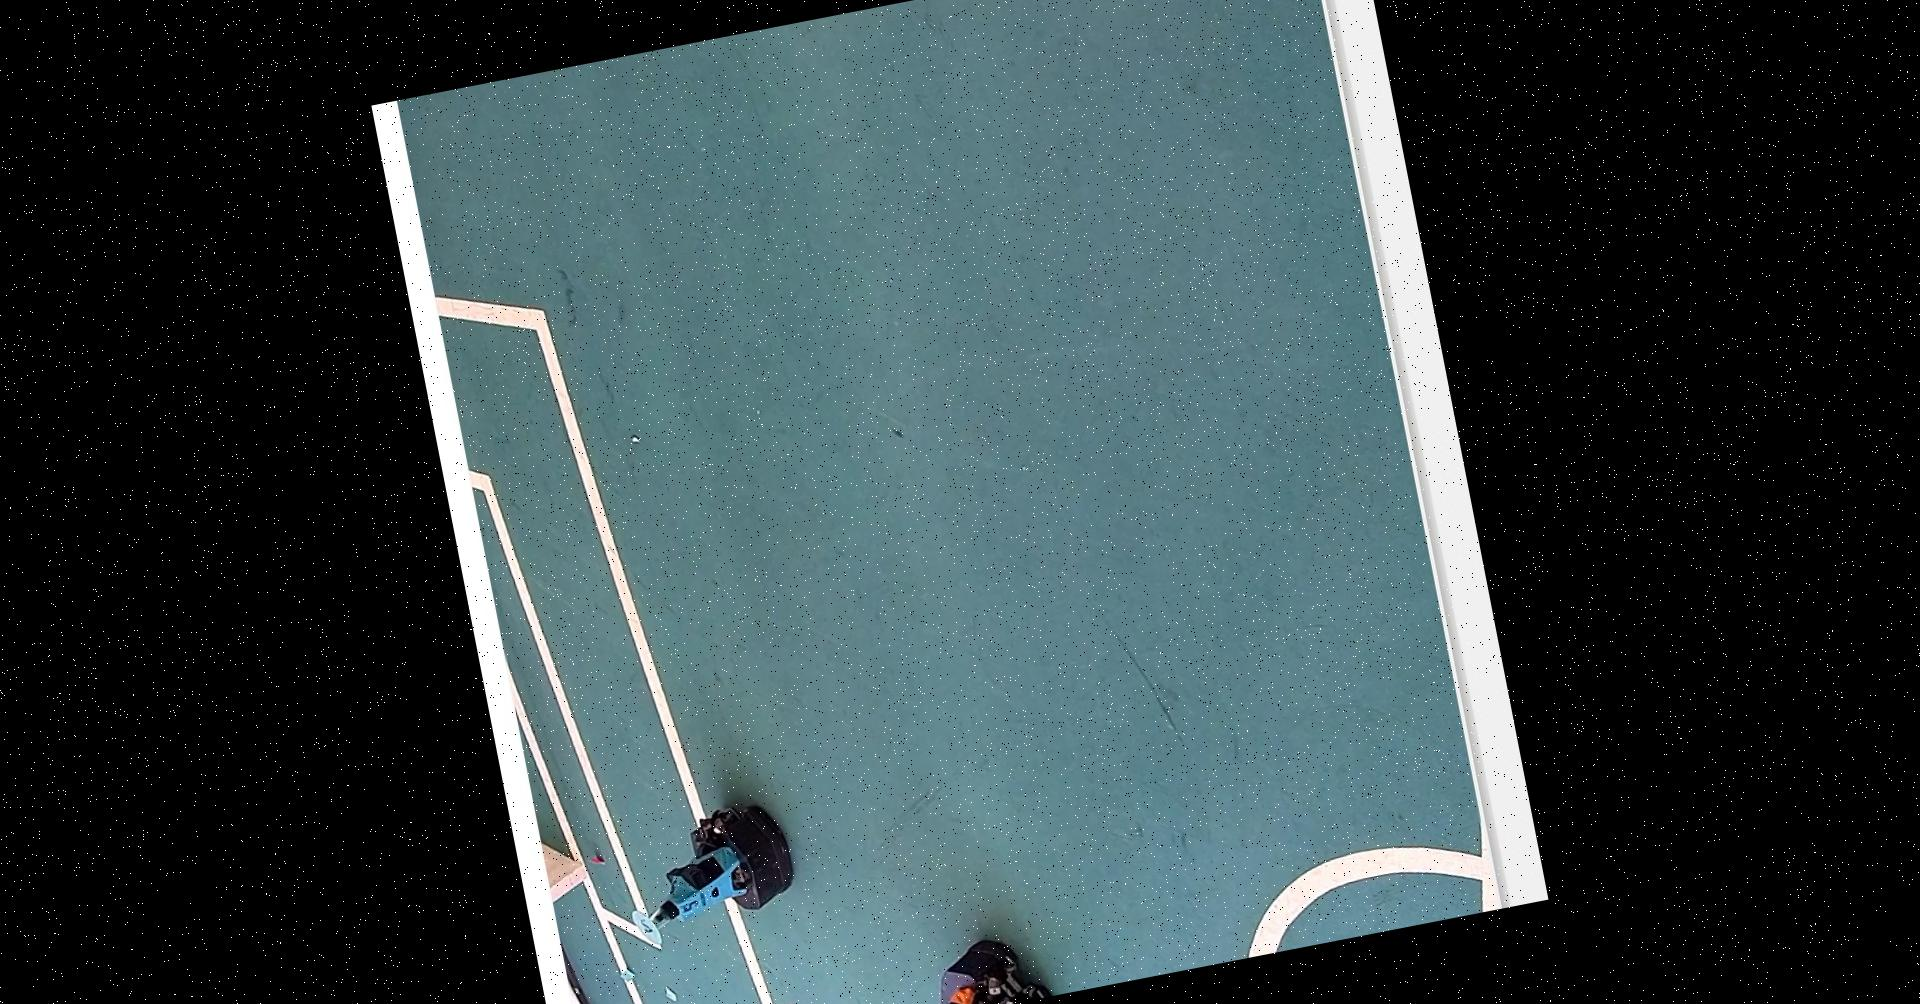Team_Blue: (603, 782, 806, 952)
Team_Red: (844, 924, 1052, 1004)
